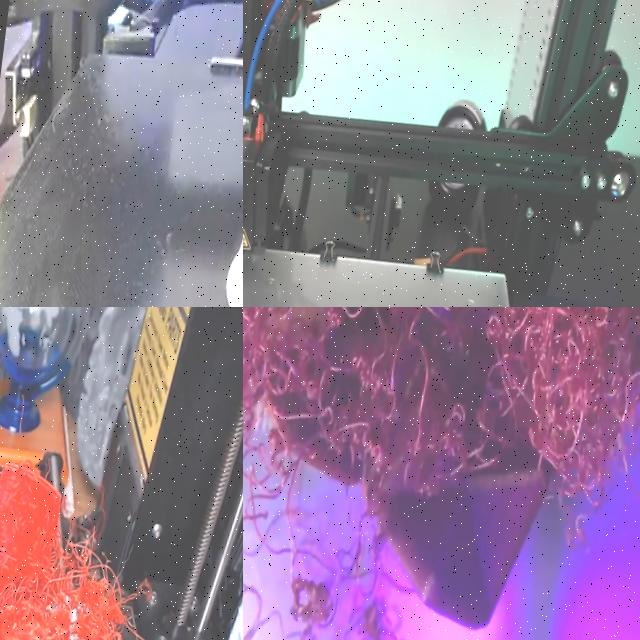spaghetti: (243, 307, 640, 630), (0, 464, 195, 640), (243, 463, 382, 640)
